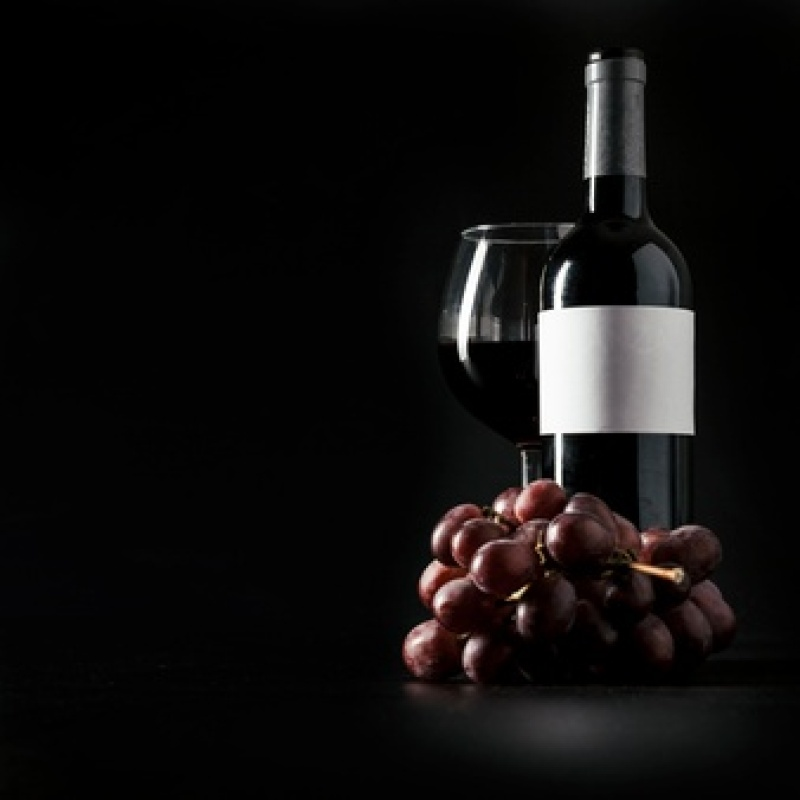wine: (534, 55, 691, 520)
